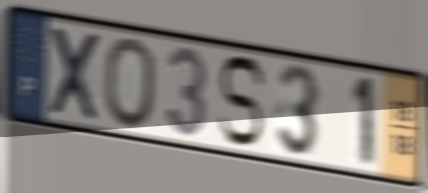1: (349, 73, 377, 170)
3: (269, 62, 325, 160), (164, 43, 208, 142)
O: (102, 35, 159, 132)
S: (215, 53, 268, 150)
X: (47, 22, 102, 126)
